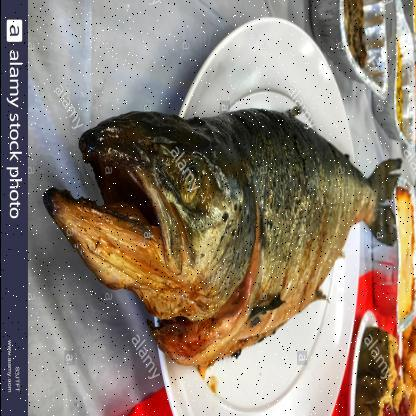fish: (44, 96, 406, 368)
